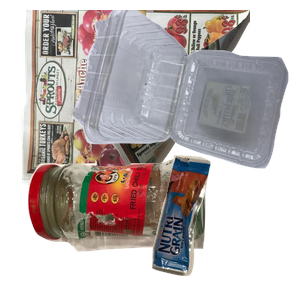glass: (25, 155, 227, 300)
paper: (18, 10, 258, 190)
plastic: (70, 10, 300, 171)
trash: (149, 152, 300, 300)
